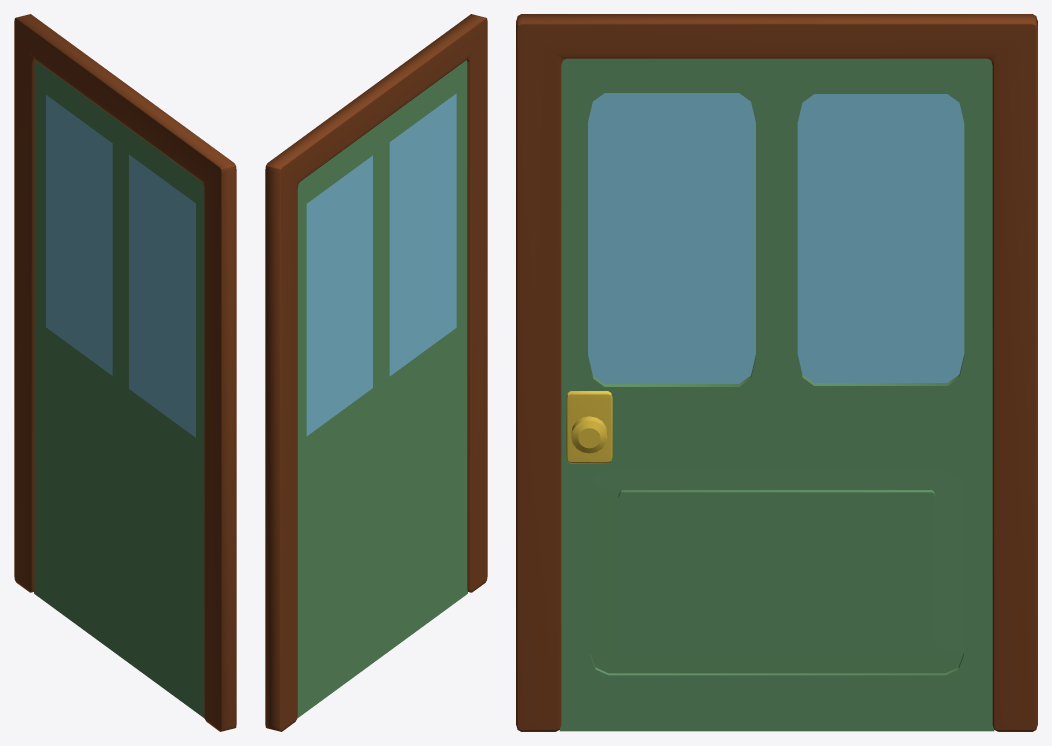
Rendered from door.fbx.
3 renders of one model, left to right at view 1: azimuth 30°, elevation 25°; view 2: azimuth 150°, elevation 25°; view 3: azimuth 270°, elevation 25°, orthographic. The views are drawn at different scales.
Parts seen in each view (by area): view 1: Door, Border; view 2: Door, Border; view 3: Door, Border.
Boxes of the visible parts, box(x1,y1,x2,y2) form: Door: box(34, 60, 204, 718); Border: box(14, 14, 236, 731); Door: box(297, 60, 467, 718); Border: box(265, 14, 487, 731); Door: box(559, 58, 994, 731); Border: box(516, 14, 1037, 731).
Bounding box in the file's own units: 107 × 1801 × 1200.
